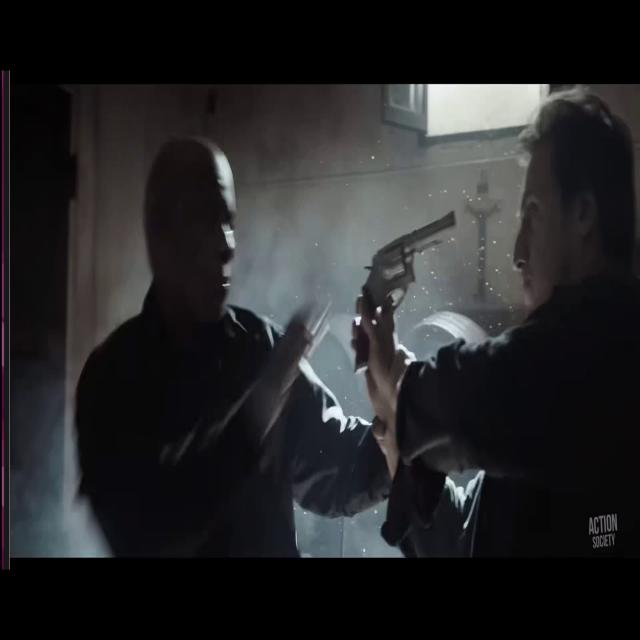weapons: (345, 207, 462, 369)
